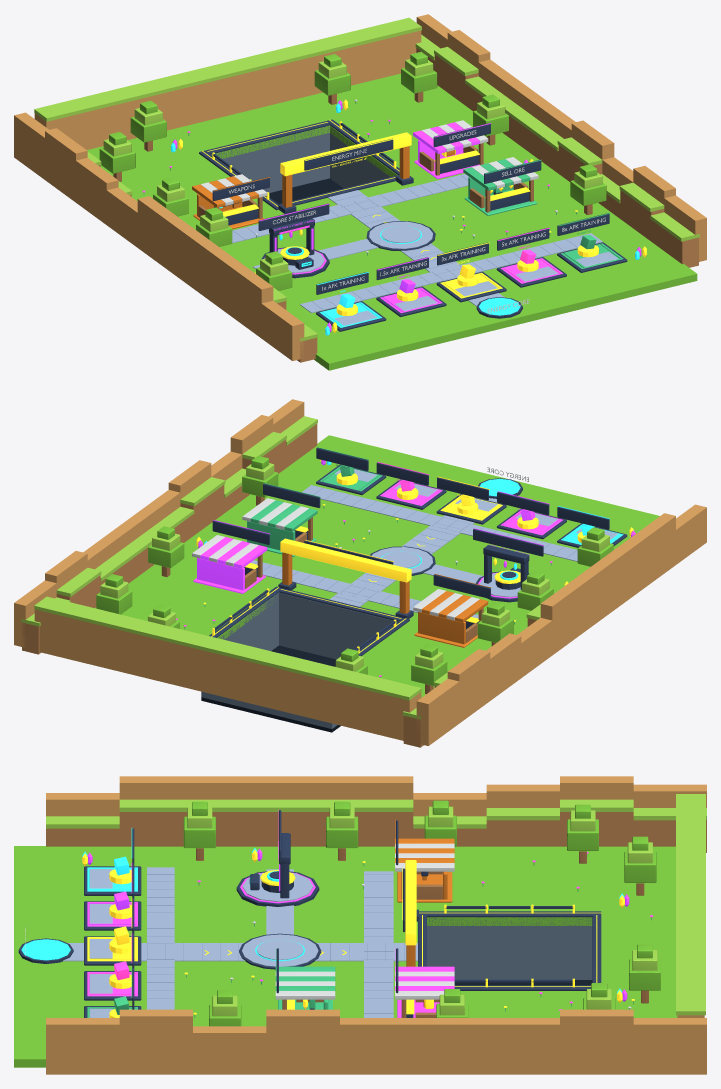
The model's file is EnergyCoreLobby-Colored.fbx.
3 renders of one model, top to bottom at view 1: azimuth 30°, elevation 25°; view 2: azimuth 150°, elevation 25°; view 3: azimuth 270°, elevation 25°, orthographic. The views are drawn at different scales.
Parts seen in each view (by area): view 1: Lobby meadow.001, Rear meadow.001, Spawn meadow extension.001, Right mine meadow.001, Shaft end stratum 0.003, Training promenade.001, Left mine meadow.001, Shop cross walk.001, Rear cliff.011, Outer cliff tier.019, Rear cliff.010, Outer cliff tier.025 (+62 smaller); view 2: Lobby meadow.001, Right mine meadow.001, Shaft end stratum 0.002, Spawn meadow extension.001, Left mine meadow.001, Training promenade.001, Rear cliff.008, Rear cliff.009, Rear cliff.010, Rear cliff.012, Rear cliff.011, Rear cliff.007 (+56 smaller); view 3: Lobby meadow.001, Left mine meadow.001, Rear meadow.001, Shaft side stratum 0.002, Spawn meadow extension.001, Outer cliff tier.030, Outer cliff tier.034, Outer cliff tier.028, Shop cross walk.001, Outer cliff tier.027, Outer cliff tier.031, Outer cliff tier.032 (+63 smaller).
Part boxes in pixels (x1,y1,x2,y2): Lobby meadow.001: (192, 147, 681, 360); Rear meadow.001: (87, 73, 451, 176); Spawn meadow extension.001: (315, 264, 697, 370); Right mine meadow.001: (330, 96, 521, 176); Shaft end stratum 0.003: (211, 126, 329, 192); Training promenade.001: (300, 233, 602, 313); Left mine meadow.001: (120, 157, 271, 227); Shop cross walk.001: (232, 174, 468, 243); Rear cliff.011: (260, 56, 314, 107); Outer cliff tier.019: (230, 264, 273, 338); Rear cliff.010: (207, 69, 260, 120); Outer cliff tier.025: (45, 128, 87, 202); Lobby meadow.001: (173, 445, 646, 644); Right mine meadow.001: (95, 564, 276, 639); Shaft end stratum 0.002: (279, 592, 397, 659); Spawn meadow extension.001: (317, 435, 659, 525); Left mine meadow.001: (362, 624, 491, 695); Training promenade.001: (302, 485, 577, 561); Rear cliff.008: (302, 675, 356, 729); Rear cliff.009: (249, 661, 302, 716); Rear cliff.010: (195, 648, 248, 702); Rear cliff.012: (88, 622, 141, 676); Rear cliff.011: (142, 635, 195, 689); Rear cliff.007: (356, 688, 421, 740); Lobby meadow.001: (46, 846, 426, 1026); Left mine meadow.001: (427, 846, 592, 925); Rear meadow.001: (592, 846, 677, 1017); Shaft side stratum 0.002: (427, 917, 592, 979); Spawn meadow extension.001: (14, 846, 45, 1067); Outer cliff tier.030: (266, 1009, 339, 1074); Outer cliff tier.034: (560, 1009, 633, 1074); Outer cliff tier.028: (119, 1009, 192, 1074); Shop cross walk.001: (364, 871, 393, 1017); Outer cliff tier.027: (46, 1018, 119, 1074); Outer cliff tier.031: (340, 1018, 413, 1074); Outer cliff tier.032: (413, 1018, 486, 1074).
Size of the model in its own units: 24754 by 6118 by 30200.
